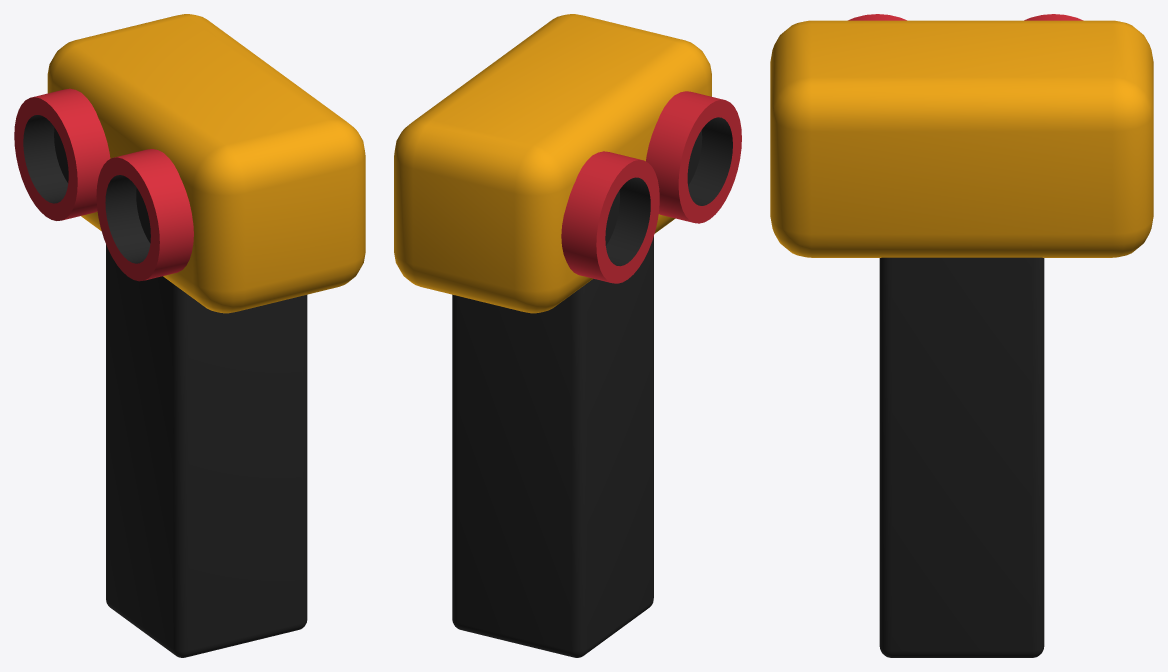
The model's file is HandsDispenser.fbx.
The picture shows the model from 3 angles, left to right: view 1: azimuth 30°, elevation 25°; view 2: azimuth 150°, elevation 25°; view 3: azimuth 270°, elevation 25°; orthographic projection. The views are drawn at different scales.
Visible parts, largest first — view 1: Cube, Cube_1, Cylinder, Cylinder_3, Cylinder_4, Cylinder_2; view 2: Cube, Cube_1, Cylinder_3, Cylinder, Cylinder_4, Cylinder_2; view 3: Cube_1, Cube.
Part boxes in pixels (x1=…): Cube: x1=106, y1=244, x2=307, y2=657; Cube_1: x1=47, y1=14, x2=365, y2=313; Cylinder: x1=96, y1=149, x2=193, y2=281; Cylinder_3: x1=14, y1=88, x2=110, y2=220; Cylinder_4: x1=23, y1=115, x2=68, y2=203; Cylinder_2: x1=105, y1=175, x2=150, y2=263; Cube: x1=452, y1=236, x2=653, y2=657; Cube_1: x1=394, y1=14, x2=711, y2=313; Cylinder_3: x1=561, y1=151, x2=659, y2=283; Cylinder: x1=646, y1=91, x2=741, y2=223; Cylinder_4: x1=605, y1=177, x2=650, y2=266; Cylinder_2: x1=687, y1=117, x2=732, y2=205; Cube_1: x1=770, y1=20, x2=1153, y2=257; Cube: x1=879, y1=257, x2=1044, y2=657.
Bounding box in the file's own units: 45.14 × 115 × 69.27.
